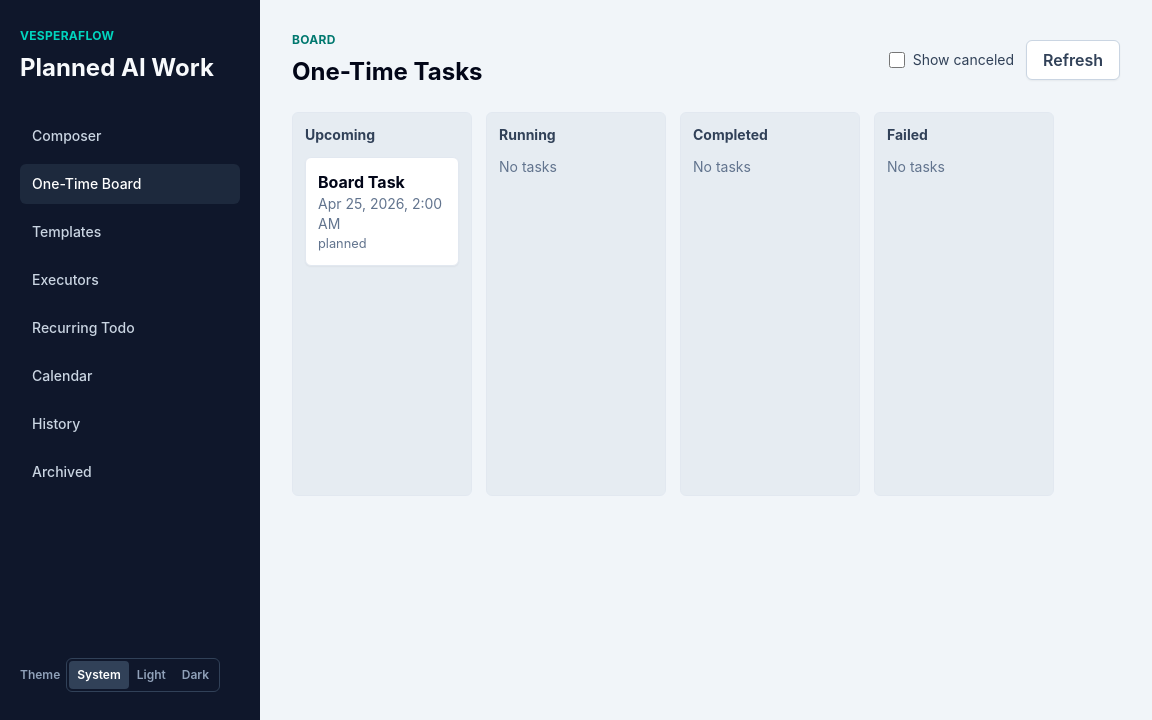
Test: App › navigates to task detail from a board card
Step 1. Click the button "Board Task Apr 25, 2026, 2:00 AM planned" → {"x": 382, "y": 212}, box [305,157,459,266]
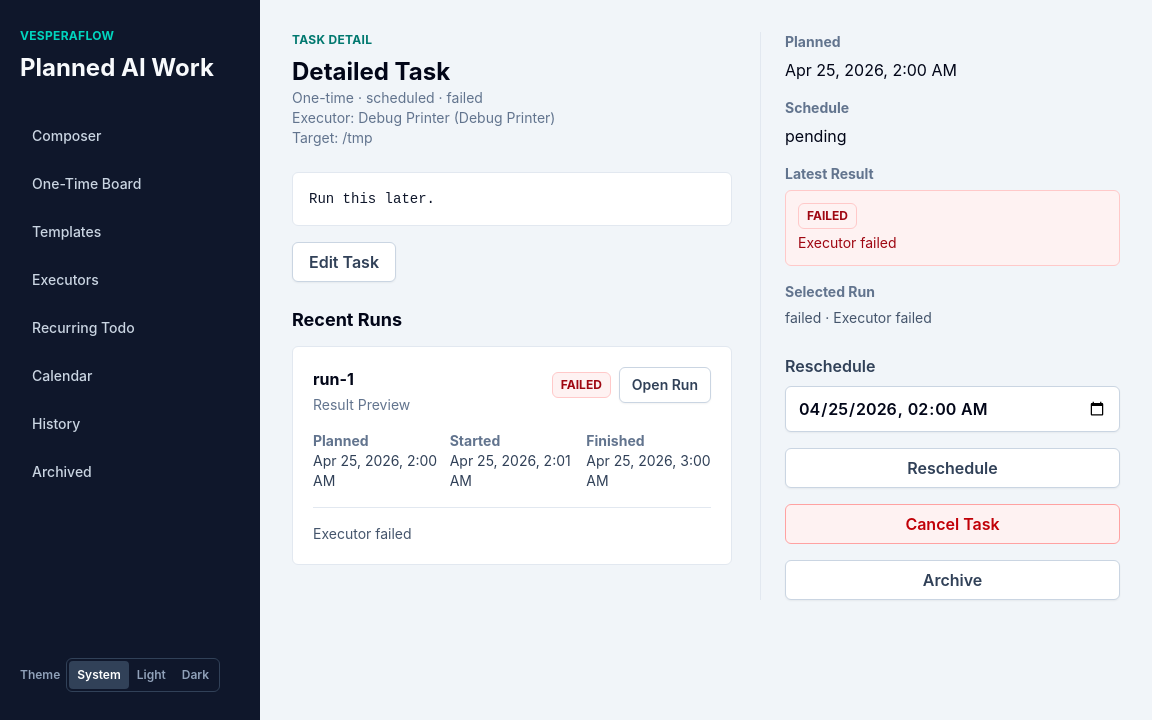
Now the text "Detailed Task" is shown, box [292,57,450,86]
